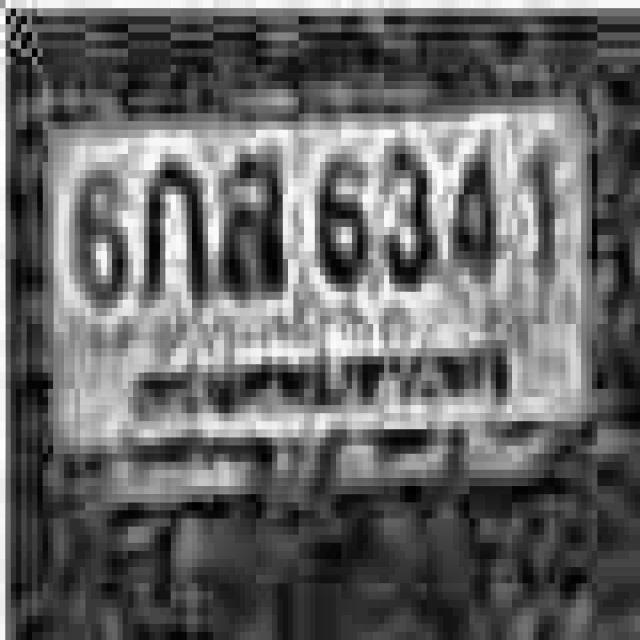license-plate: (33, 75, 606, 512)
